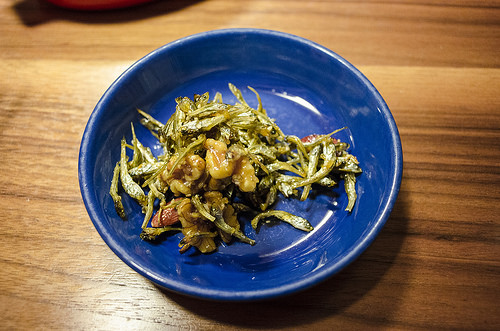myeolchibokk-eum: (104, 79, 364, 258)
